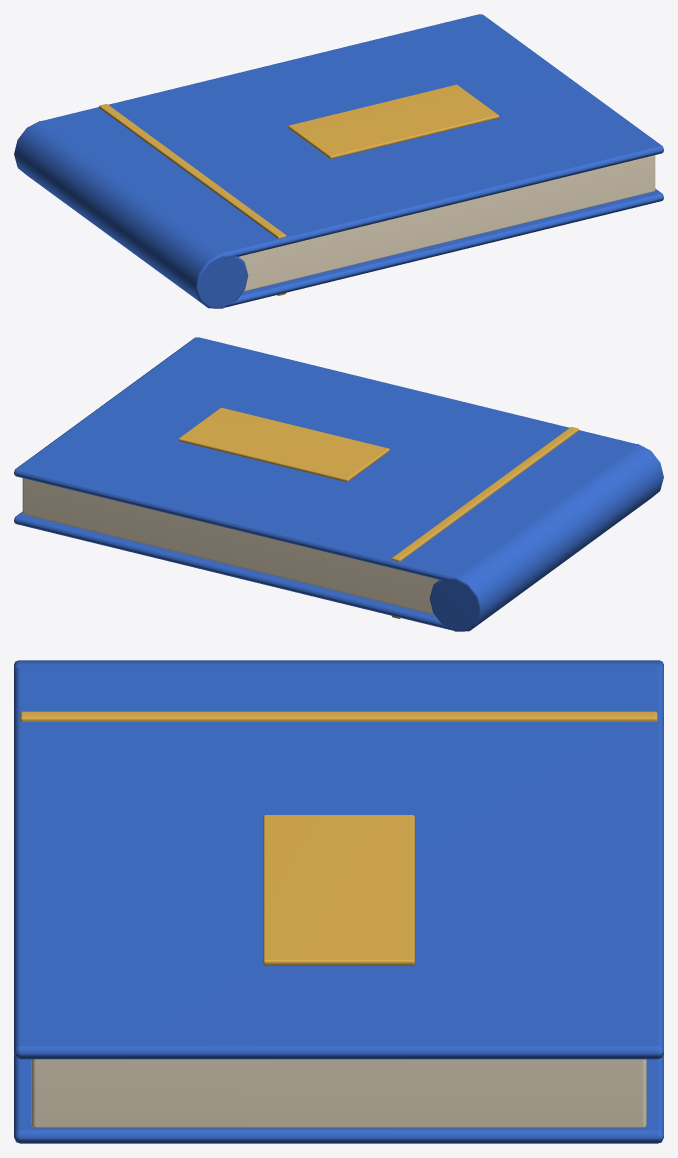
Rendered from toy_book_blue.glb.
The picture shows the model from 3 angles, top to bottom: view 1: azimuth 30°, elevation 25°; view 2: azimuth 150°, elevation 25°; view 3: azimuth 270°, elevation 25°; orthographic projection. The views are drawn at different scales.
Parts seen in each view (by area): view 1: toy_book_blue; view 2: toy_book_blue; view 3: toy_book_blue.
Boxes of the visible parts, box(x1,y1,x2,y2) form: toy_book_blue: box(14, 14, 663, 308); toy_book_blue: box(14, 337, 663, 631); toy_book_blue: box(14, 660, 663, 1143).
Bounding box in the file's own units: 4.43 × 0.545 × 3.
